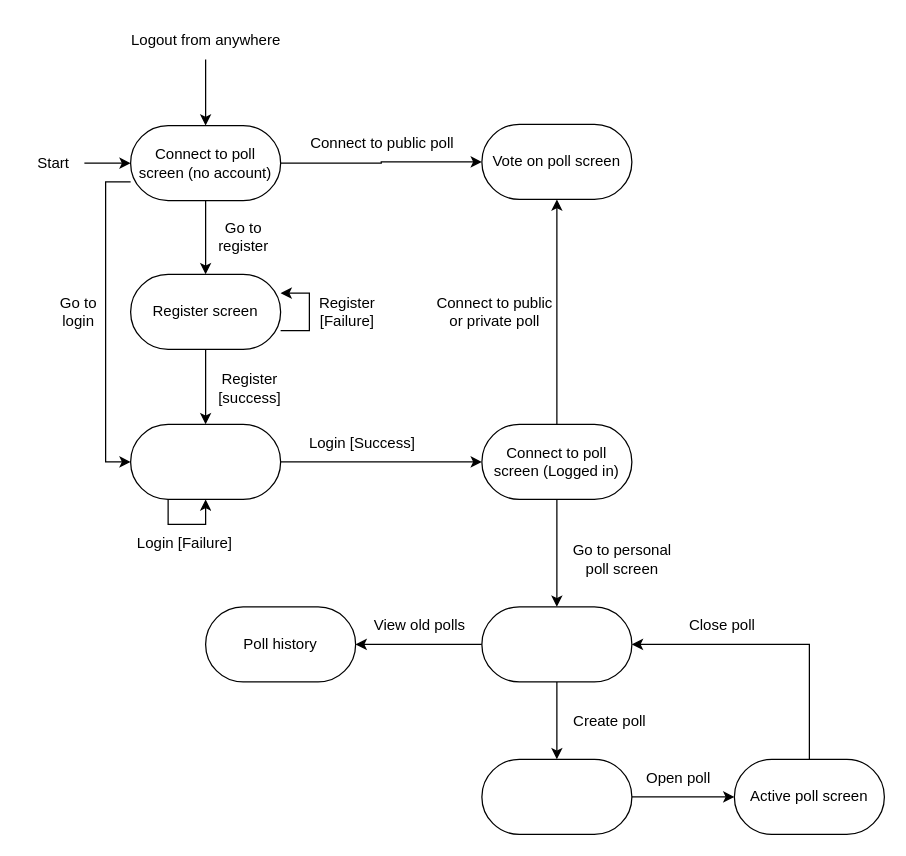
This 906x856 diagram has some shape labels left out. The shapes that lost their labels are listed below. From the top down, each one's centre as x and y in pixels, then its label:
At (205,461): "Login screen".
At (556,644): "Personal polls screen".
At (556,796): "Poll setup screen".
